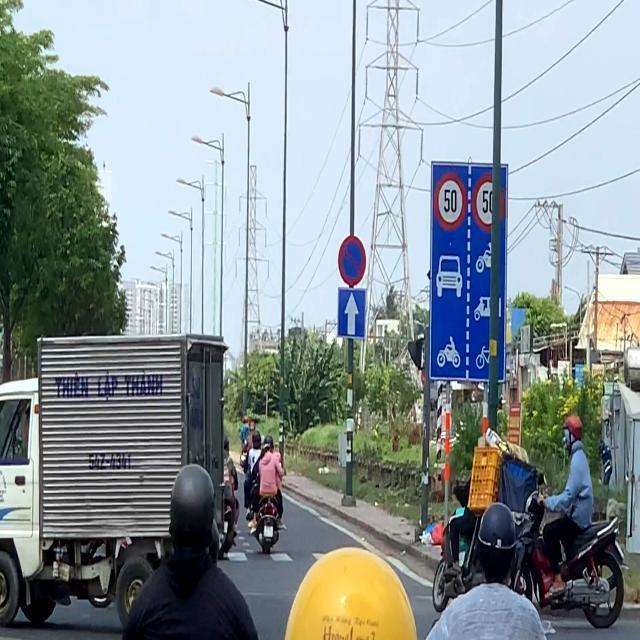127-toc-do-toi-da-50: (435, 176, 465, 224), (474, 178, 502, 226)
131a-cam-do-xe: (339, 235, 367, 288)
